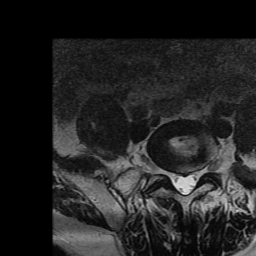CCS_normal: (180, 164, 189, 201)
LFS_stenosis: (198, 156, 207, 183)
LLS_normal: (189, 161, 198, 196)
RFS_stenosis: (161, 159, 171, 184)
RLS_normal: (171, 161, 180, 198)
